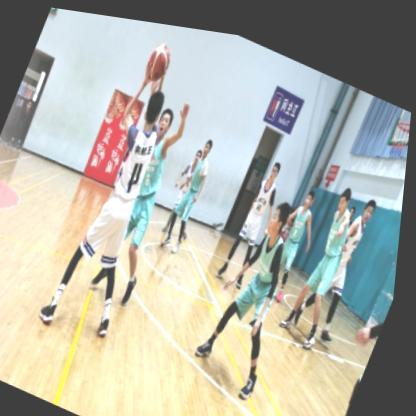basketball: (143, 34, 176, 80)
